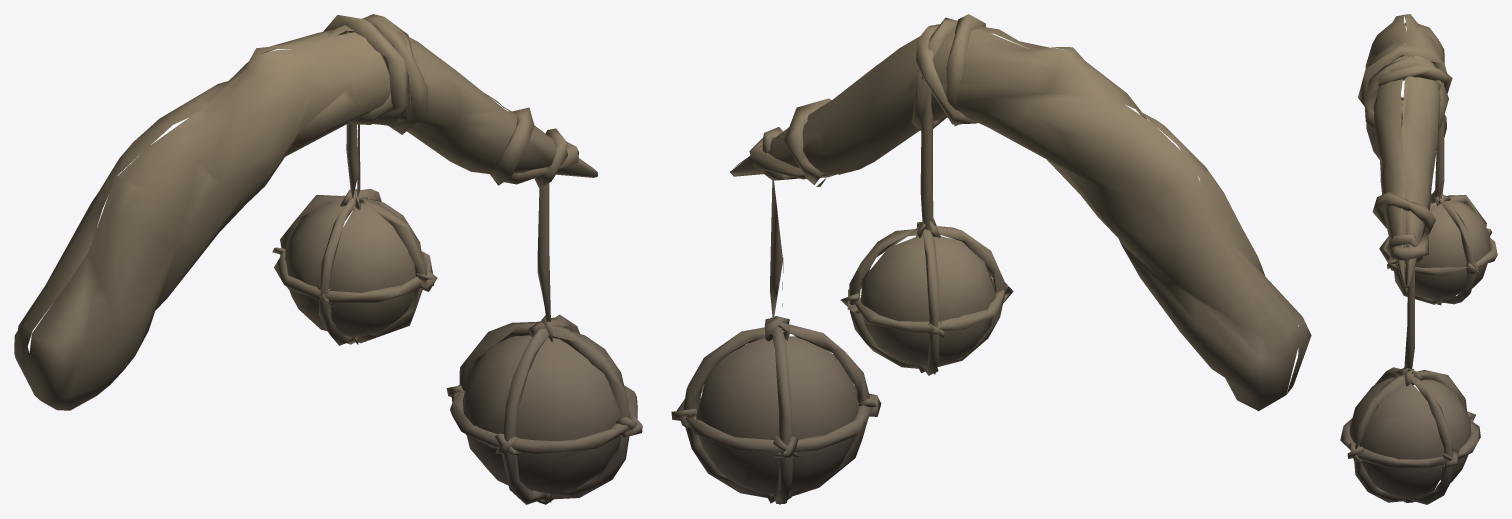
The model's file is lb_lantern_branch.glb.
3 views of the same model, side by side, from view 1: azimuth 30°, elevation 25°; view 2: azimuth 150°, elevation 25°; view 3: azimuth 270°, elevation 25° (orthographic). The views are drawn at different scales.
Visible parts, largest first — view 1: geometry_0; view 2: geometry_0; view 3: geometry_0.
Part boxes in pixels (<box>): geometry_0: <box>14,14,642,504</box>; geometry_0: <box>671,14,1311,504</box>; geometry_0: <box>1340,14,1497,504</box>.
Size of the model in its own units: 2.8 by 2.36 by 0.8601.
